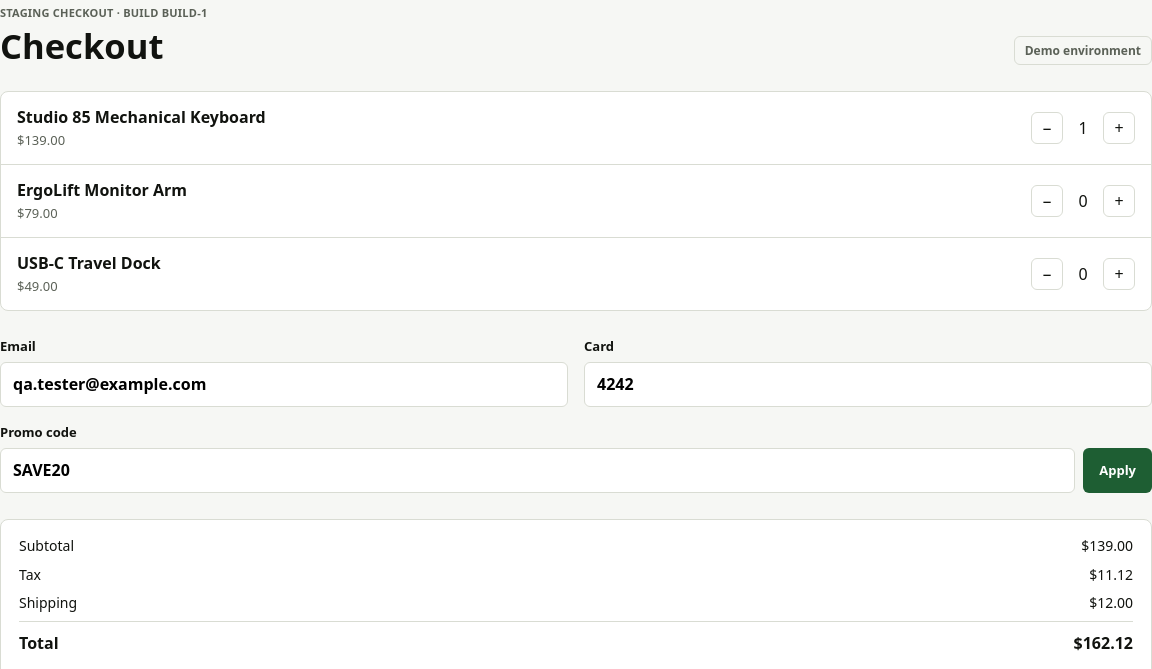
Scenario: Checkout › applies coupon and records failure
This screenshot has width=1152, height=669.
Click the button with test id "apply-coupon". click: click(1118, 471)
box: top-left (1083, 448), bottom-right (1151, 493)
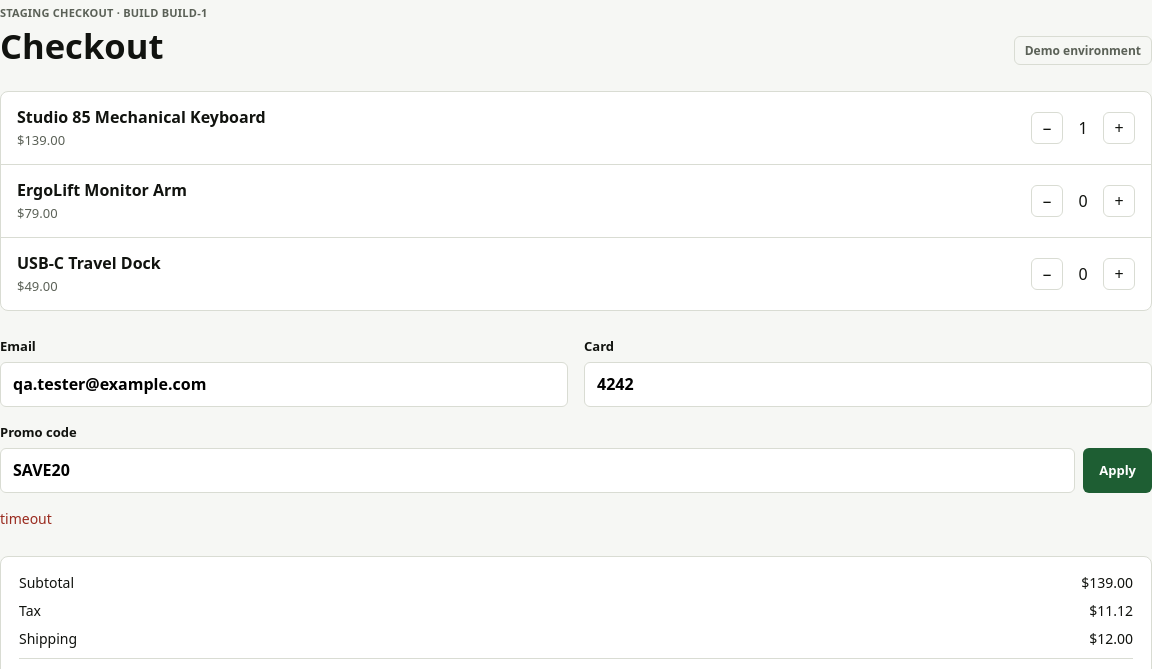
Check: the message "timeout" is shown, box top-left (0, 509), bottom-right (52, 528)
